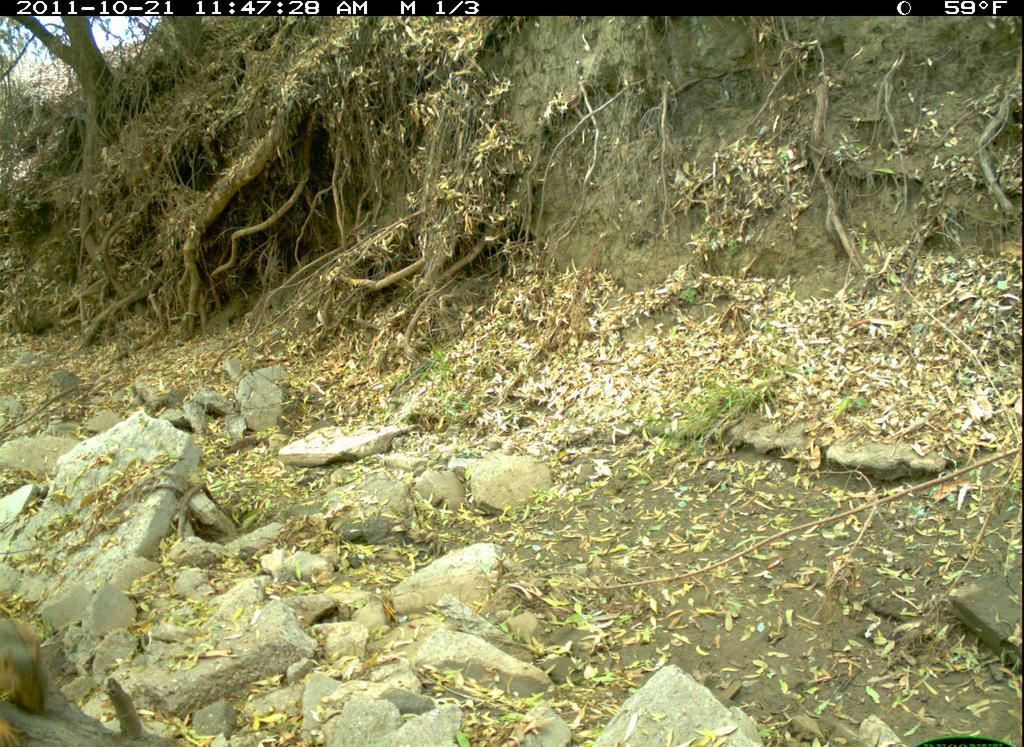squirrel: (4, 597, 56, 729)
